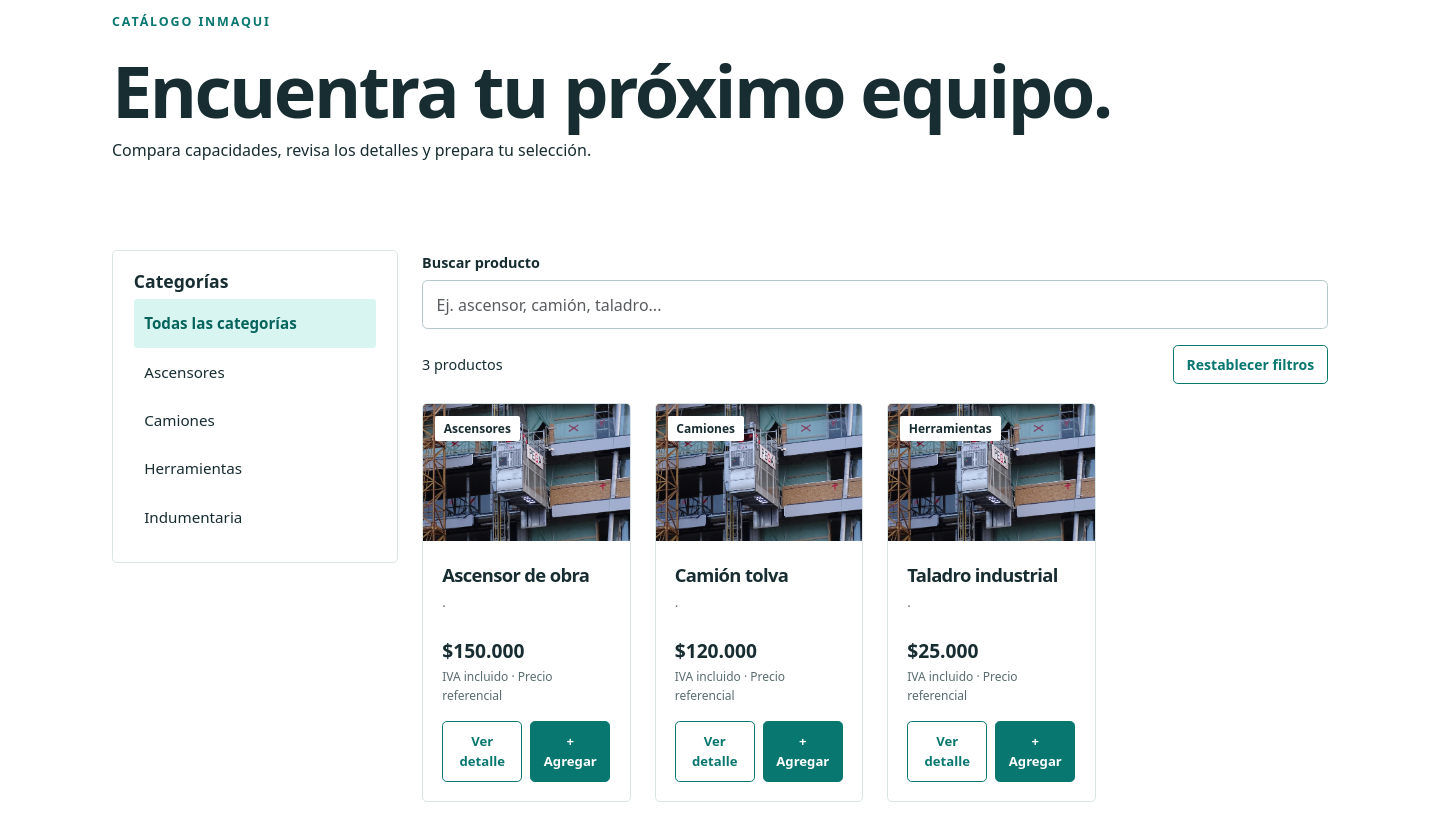
Test: Pruebas de componentes - Catálogo INMAQUI › oculta los productos de otras categorías al filtrar Camiones
Click the button "Camiones" at (255, 420), box [134,396,376,444]
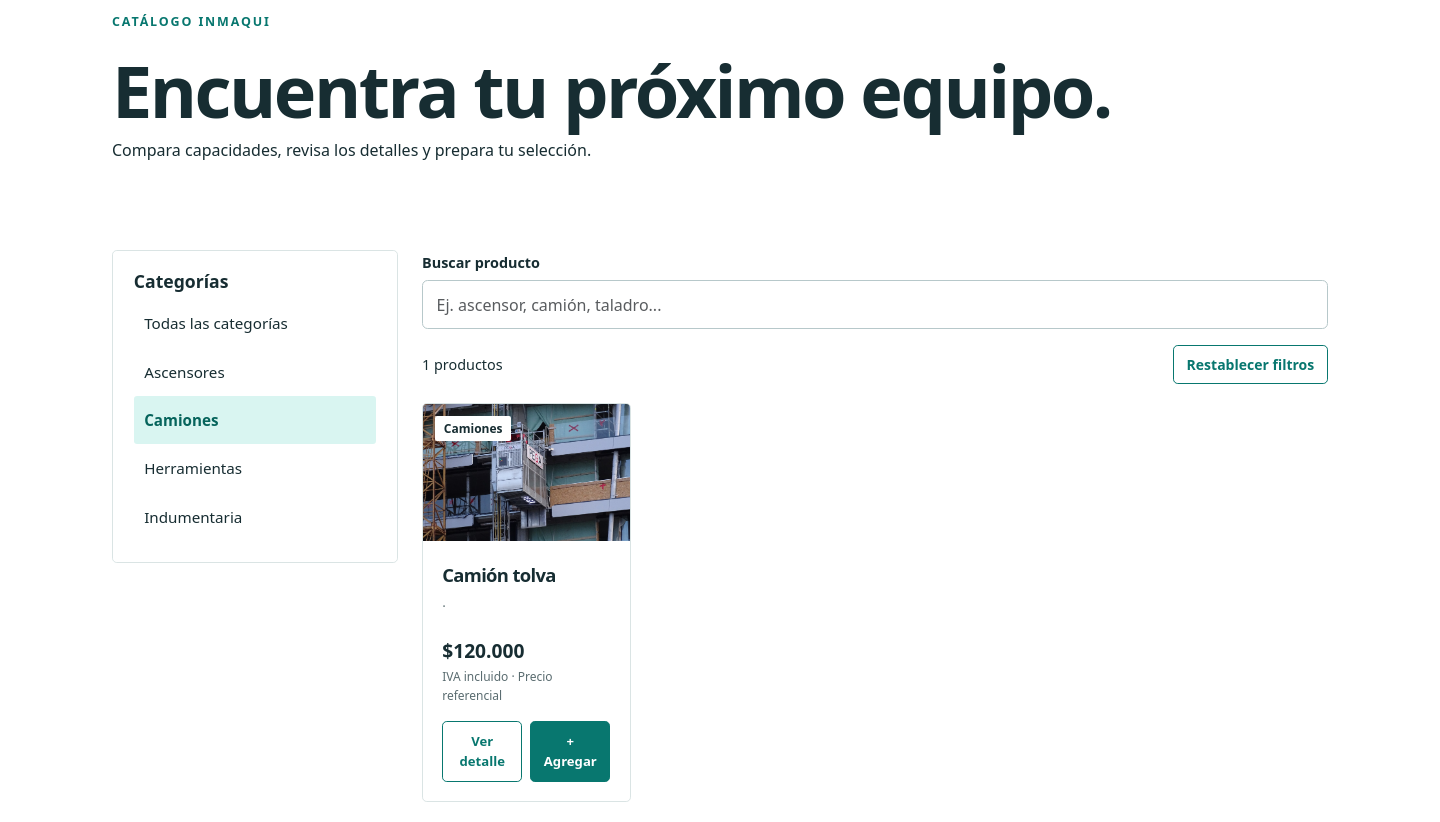
Check: the link "Camión tolva" is shown, box [442,562,556,587]
Check: the link "Ascensor de obra" is gone
Check: the link "Taladro industrial" is gone
